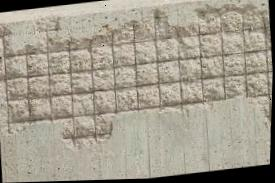spalling: (0, 2, 274, 149)
